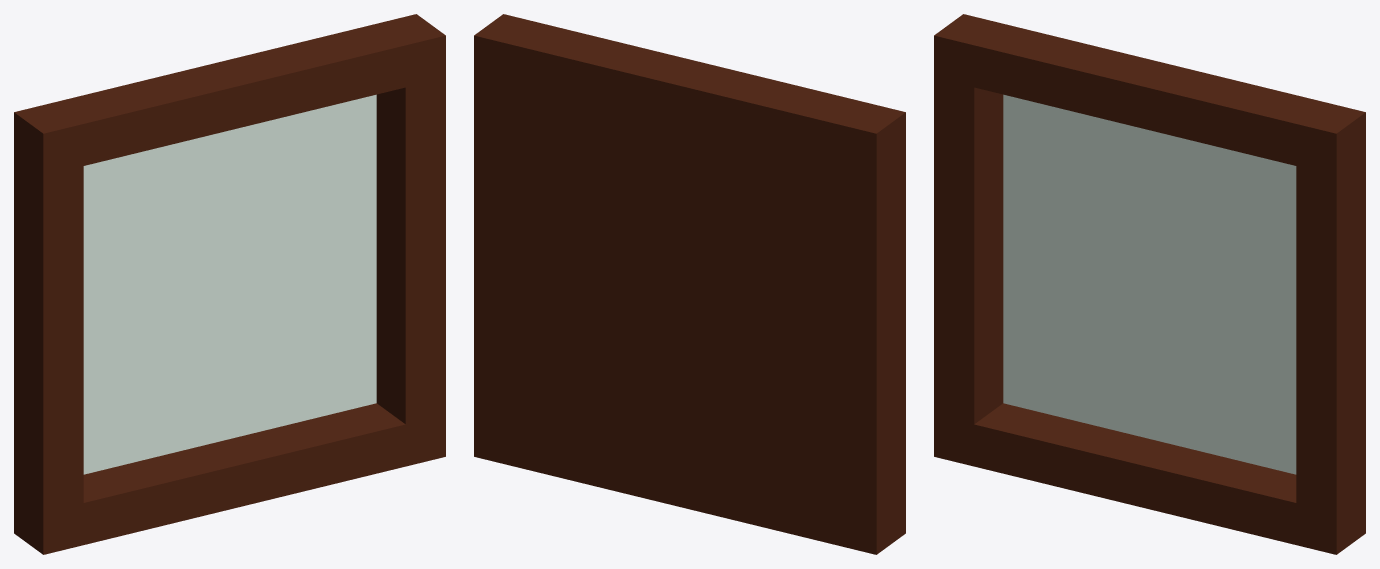
The model's file is Mirror_Pitch.fbx.
The picture shows the model from 3 angles, left to right: view 1: azimuth 30°, elevation 25°; view 2: azimuth 150°, elevation 25°; view 3: azimuth 330°, elevation 25°; orthographic projection.
Visible parts, largest first — view 1: Mirror1x1; view 2: Mirror1x1; view 3: Mirror1x1.
Boxes of the visible parts, x1,y1,x2,y2 form: Mirror1x1: (14, 14, 445, 554); Mirror1x1: (474, 14, 905, 554); Mirror1x1: (934, 14, 1365, 554).
Size of the model in its own units: 100 by 100 by 12.67.
